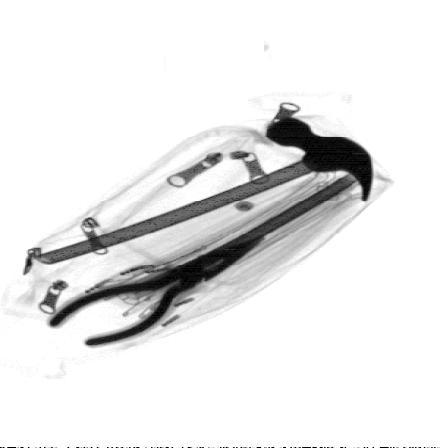Hammer: (38, 116, 375, 265)
Pliers: (46, 236, 262, 349)
